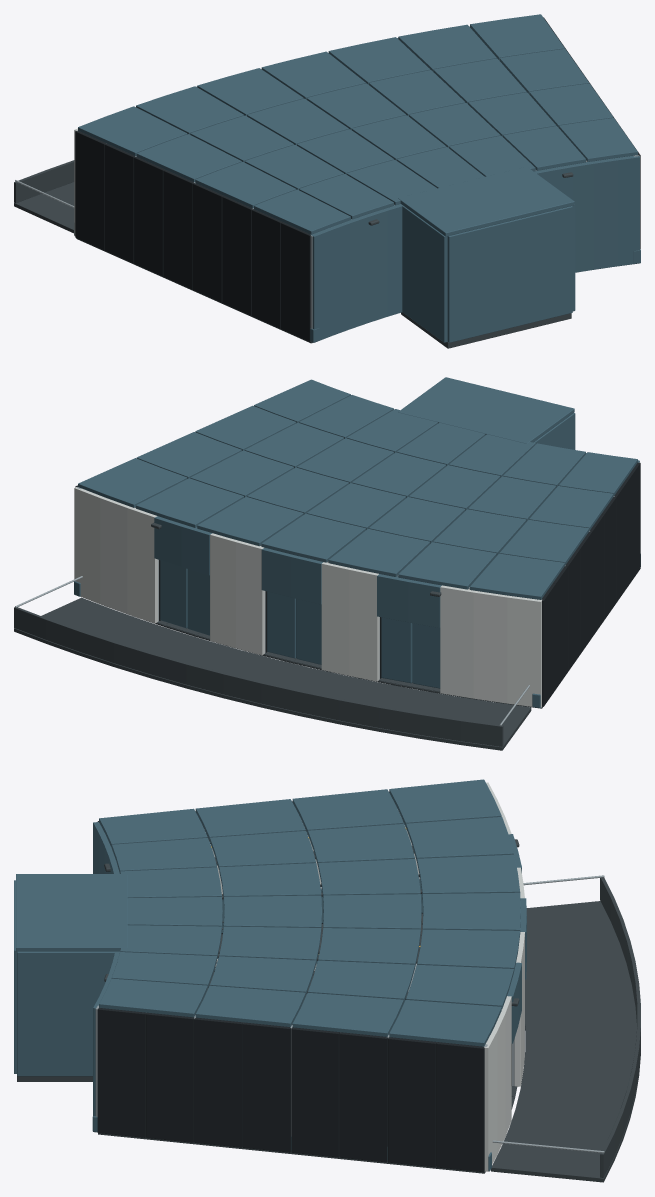
File: StationHall-v01.fbx
The picture shows the model from 3 angles, top to bottom: view 1: azimuth 30°, elevation 25°; view 2: azimuth 150°, elevation 25°; view 3: azimuth 270°, elevation 25°; orthographic projection. The views are drawn at different scales.
Visible parts, largest first — view 1: Ceiling__Paint_Navy__Batch, WallBacking__Rubber__Batch, RearBulkhead__Paint_Navy__Batch, ConnectorBack__Paint_Navy__Batch, ConnectorRoof__Paint_Navy__Batch, ConnectorWall__Paint_Navy__Batch, OuterApron__Steel_Dark__Batch, ApronRail__Steel_Dark__Batch, ConnectorDeck__Steel_Dark__Batch; view 2: Ceiling__Paint_Navy__Batch, FrontBulkhead__Paint_Ivory__Batch, OuterApron__Steel_Dark__Batch, WallBacking__Rubber__Batch, ApronRail__Steel_Dark__Batch, FrontHeader__Paint_Navy__Batch, ConnectorRoof__Paint_Navy__Batch, DoorPanel__Paint_Navy__0504, DoorPanel__Paint_Navy__0548, DoorPanel__Paint_Navy__0488, DoorPanel__Paint_Navy__0592, DoorPanel__Paint_Navy__0532 (+4 smaller); view 3: Ceiling__Paint_Navy__Batch, WallBacking__Rubber__Batch, OuterApron__Steel_Dark__Batch, ConnectorWall__Paint_Navy__Batch, ConnectorRoof__Paint_Navy__Batch, FrontBulkhead__Paint_Ivory__Batch, ApronRail__Steel_Dark__Batch, RearBulkhead__Paint_Navy__Batch, FrontHeader__Paint_Navy__Batch, DeckBacking__Steel_Dark__Batch.
Part boxes in pixels (bbox=[...]): Ceiling__Paint_Navy__Batch: bbox=[78, 14, 637, 234]; WallBacking__Rubber__Batch: bbox=[75, 17, 640, 341]; RearBulkhead__Paint_Navy__Batch: bbox=[310, 155, 639, 342]; ConnectorBack__Paint_Navy__Batch: bbox=[447, 206, 572, 342]; ConnectorRoof__Paint_Navy__Batch: bbox=[398, 166, 574, 236]; ConnectorWall__Paint_Navy__Batch: bbox=[402, 205, 575, 342]; OuterApron__Steel_Dark__Batch: bbox=[14, 182, 74, 233]; ApronRail__Steel_Dark__Batch: bbox=[14, 160, 74, 203]; ConnectorDeck__Steel_Dark__Batch: bbox=[401, 312, 571, 348]; Ceiling__Paint_Navy__Batch: bbox=[78, 379, 637, 599]; FrontBulkhead__Paint_Ivory__Batch: bbox=[74, 487, 541, 707]; OuterApron__Steel_Dark__Batch: bbox=[14, 597, 531, 750]; WallBacking__Rubber__Batch: bbox=[75, 462, 640, 706]; ApronRail__Steel_Dark__Batch: bbox=[14, 607, 503, 746]; FrontHeader__Paint_Navy__Batch: bbox=[154, 516, 441, 627]; ConnectorRoof__Paint_Navy__Batch: bbox=[398, 377, 574, 443]; DoorPanel__Paint_Navy__0504: bbox=[381, 617, 412, 683]; DoorPanel__Paint_Navy__0548: bbox=[267, 591, 296, 658]; DoorPanel__Paint_Navy__0488: bbox=[412, 623, 440, 688]; DoorPanel__Paint_Navy__0592: bbox=[160, 560, 187, 628]; DoorPanel__Paint_Navy__0532: bbox=[296, 598, 321, 664]; Ceiling__Paint_Navy__Batch: bbox=[99, 779, 520, 1046]; WallBacking__Rubber__Batch: bbox=[97, 801, 484, 1172]; OuterApron__Steel_Dark__Batch: bbox=[491, 901, 640, 1182]; ConnectorWall__Paint_Navy__Batch: bbox=[17, 951, 117, 1076]; ConnectorRoof__Paint_Navy__Batch: bbox=[16, 874, 127, 951]; FrontBulkhead__Paint_Ivory__Batch: bbox=[484, 782, 524, 1171]; ApronRail__Steel_Dark__Batch: bbox=[600, 877, 640, 1177]; RearBulkhead__Paint_Navy__Batch: bbox=[93, 822, 119, 1116]; FrontHeader__Paint_Navy__Batch: bbox=[507, 834, 526, 1043]; DeckBacking__Steel_Dark__Batch: bbox=[98, 931, 517, 1173].
Size of what is drawn, in the model's own units: 26.45 by 6.05 by 25.22.
